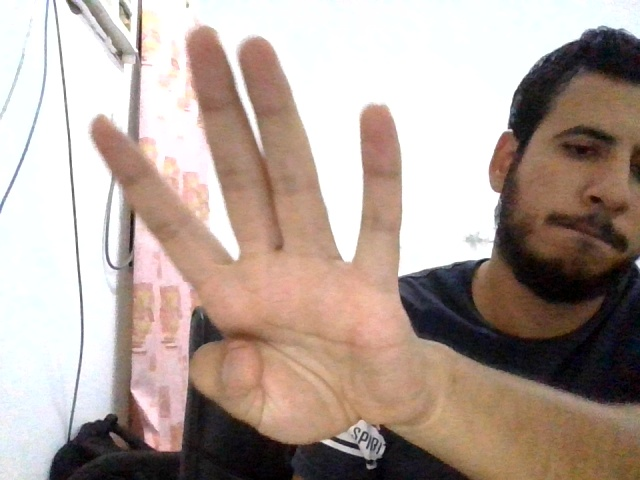Four: (90, 24, 410, 445)
